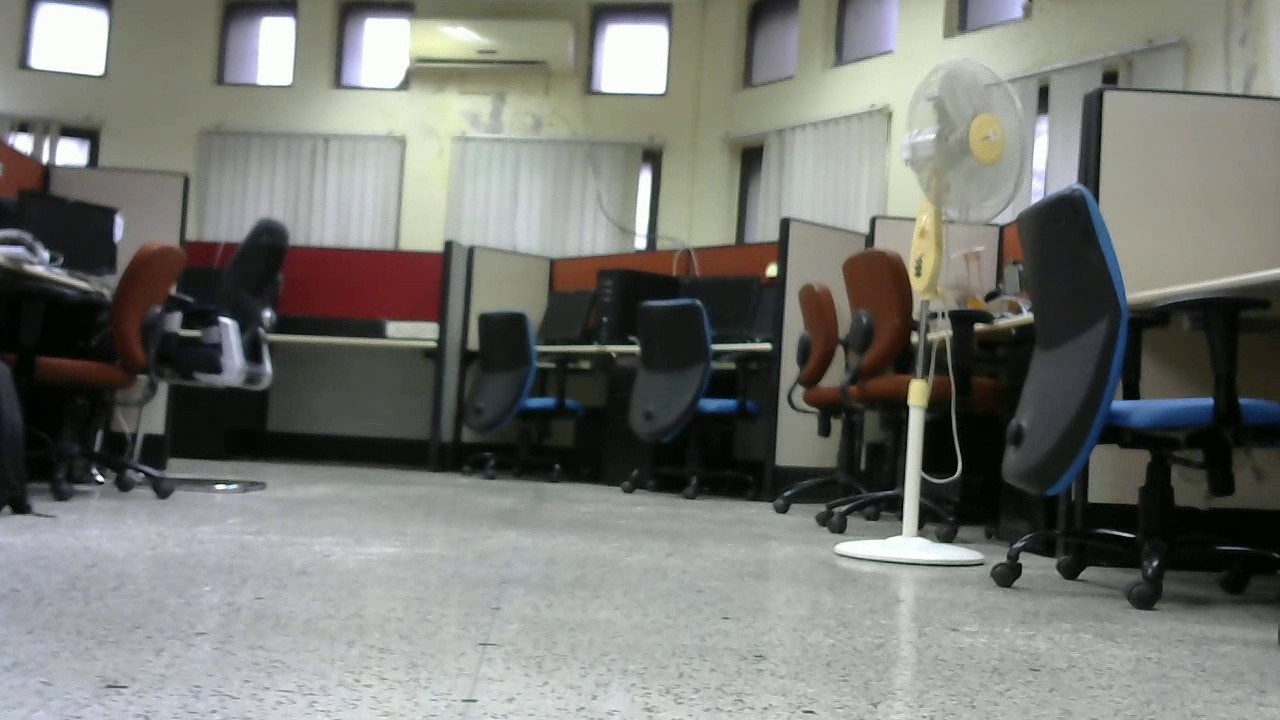chair: (972, 182, 1280, 612), (769, 248, 970, 539), (37, 240, 188, 490), (163, 214, 291, 495), (615, 298, 765, 505), (464, 313, 583, 489)
